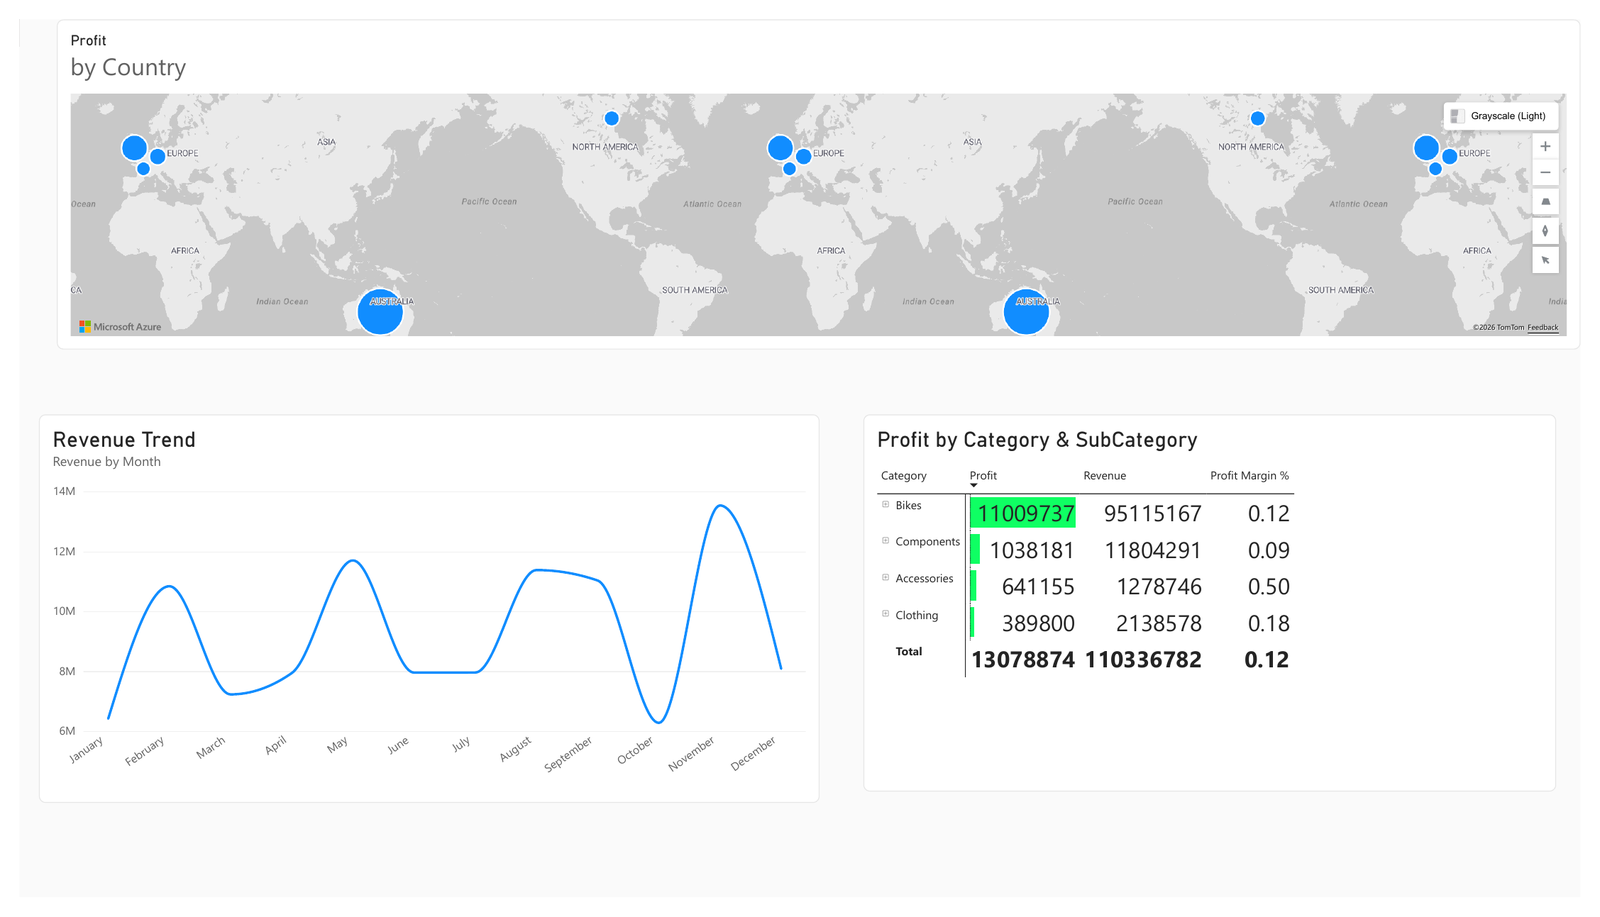

The dashboard page shown, as its layout file describes it:
{"tool":"powerbi","page":{"name":"Executive Page","canvas":[1920,1080],"ordinal":1},"visuals":[{"type":"azureMap","fields":{"Category":["Dim_Territory.Country"],"Size":["_measure.Profit"]},"box":[46,0,1874,406],"z":0},{"type":"lineChart","title":"Revenue Trend","fields":{"Category":["DimDate.Date.Variation.Date Hierarchy.Year","DimDate.Date.Variation.Date Hierarchy.Quarter","DimDate.Date.Variation.Date Hierarchy.Month","DimDate.Date.Variation.Date Hierarchy.Day"],"Y":["_measure.Revenue"]},"box":[24,486,960,478],"z":1000},{"type":"pivotTable","title":"Profit by Category & SubCategory","fields":{"Rows":["Dim_Product.Category","Dim_Product.Subcategory"],"Values":["_measure.Profit","_measure.Revenue","_measure.Profit Margin %"]},"box":[1038,486,852,464],"z":2000}]}

Visuals, with their boxes in screenshot pixels (x1, y1, x2, y2), scaled from the page's 1920x1080 canvas onto the 1600x917 screenshot:
azureMap - Dim_Territory.Country x _measure.Profit: select_region(38, 0, 1599, 345)
"Revenue Trend" lineChart: select_region(20, 413, 820, 819)
"Profit by Category & SubCategory" pivotTable: select_region(865, 413, 1575, 807)
